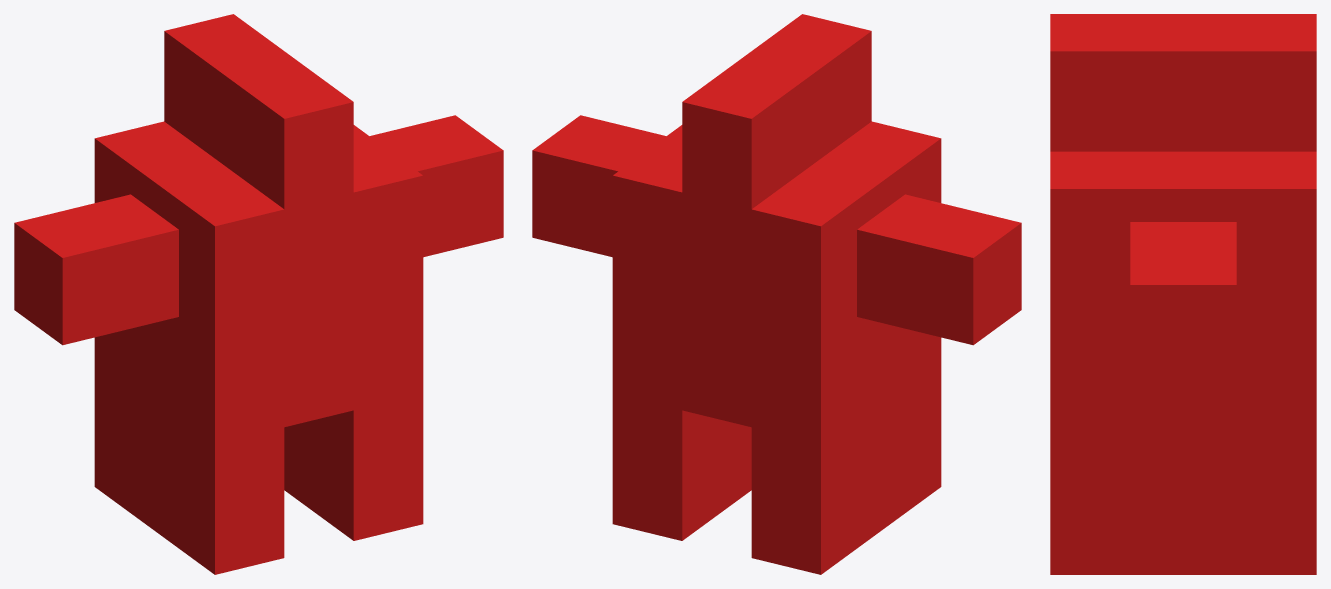
File: BadGuyB.fbx
3 renders of one model, left to right at view 1: azimuth 30°, elevation 25°; view 2: azimuth 150°, elevation 25°; view 3: azimuth 270°, elevation 25°, orthographic. The views are drawn at different scales.
Parts seen in each view (by area): view 1: Cube.004; view 2: Cube.004; view 3: Cube.004.
Part boxes in pixels (box(x1,y1,x2,y2)): Cube.004: box(14, 14, 503, 574); Cube.004: box(532, 14, 1021, 574); Cube.004: box(1050, 14, 1316, 574).
Size of the model in its own units: 424 by 403 by 200.
